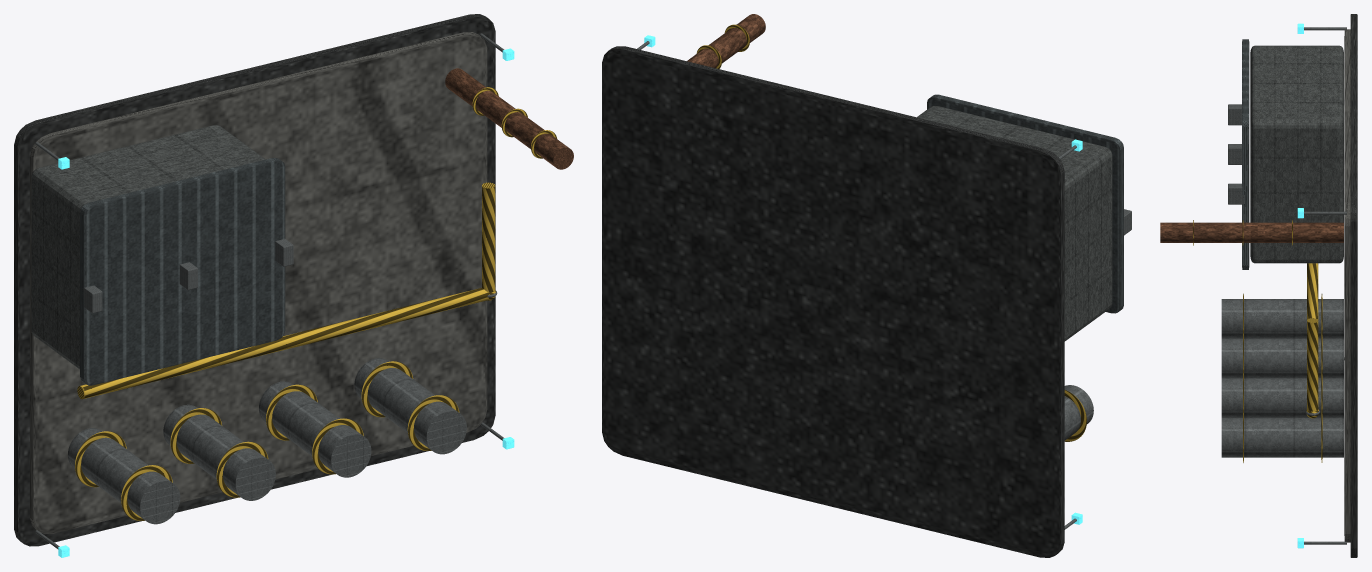
Rendered from b-12-gas-pump-lod0.glb.
3 renders of one model, left to right at view 1: azimuth 30°, elevation 25°; view 2: azimuth 150°, elevation 25°; view 3: azimuth 270°, elevation 25°, orthographic. The views are drawn at different scales.
Parts seen in each view (by area): view 1: foundation_inner_pad, gas_compressor_hall_roof, foundation, gas_compressor_hall_main_hall, gas_header_segment_1, separator_1_vessel, separator_2_vessel, separator_0_vessel, separator_3_vessel, gas_flare_stack, gas_header_segment_2; view 2: foundation, gas_compressor_hall_main_hall, gas_compressor_hall_roof, gas_flare_stack, separator_0_vessel; view 3: gas_compressor_hall_main_hall, separator_3_vessel, separator_1_vessel, separator_0_vessel, separator_2_vessel, foundation, gas_flare_stack, foundation_inner_pad, gas_compressor_hall_roof, gas_header_segment_2, gas_header_segment_1, gas_compressor_hall_roof_vent_2 (+2 smaller).
Boxes of the visible parts, <box> form: foundation_inner_pad: <box>30,32,487,533</box>; gas_compressor_hall_roof: <box>80,158,285,385</box>; foundation: <box>14,14,495,546</box>; gas_compressor_hall_main_hall: <box>31,125,265,369</box>; gas_header_segment_1: <box>77,288,488,399</box>; separator_1_vessel: <box>163,404,275,500</box>; separator_2_vessel: <box>259,381,371,477</box>; separator_0_vessel: <box>68,428,180,524</box>; separator_3_vessel: <box>354,358,466,454</box>; gas_flare_stack: <box>445,68,573,169</box>; gas_header_segment_2: <box>482,182,495,292</box>; foundation: <box>602,46,1064,557</box>; gas_compressor_hall_main_hall: <box>917,106,1112,341</box>; gas_compressor_hall_roof: <box>927,94,1123,313</box>; gas_flare_stack: <box>687,14,765,68</box>; separator_0_vessel: <box>1064,385,1093,440</box>; gas_compressor_hall_main_hall: <box>1250,45,1343,263</box>; separator_3_vessel: <box>1221,418,1343,457</box>; separator_1_vessel: <box>1221,338,1343,378</box>; separator_0_vessel: <box>1221,299,1343,338</box>; separator_2_vessel: <box>1221,378,1343,417</box>; foundation: <box>1350,14,1357,557</box>; gas_flare_stack: <box>1160,222,1343,242</box>; foundation_inner_pad: <box>1344,29,1350,542</box>; gas_compressor_hall_roof: <box>1242,39,1249,269</box>; gas_header_segment_2: <box>1307,318,1318,411</box>; gas_header_segment_1: <box>1307,263,1318,319</box>; gas_compressor_hall_roof_vent_2: <box>1228,183,1244,204</box>.
Size of what is drawn, in the model's own units: 13 by 11 by 5.48.
9 materials, 9 textured.
